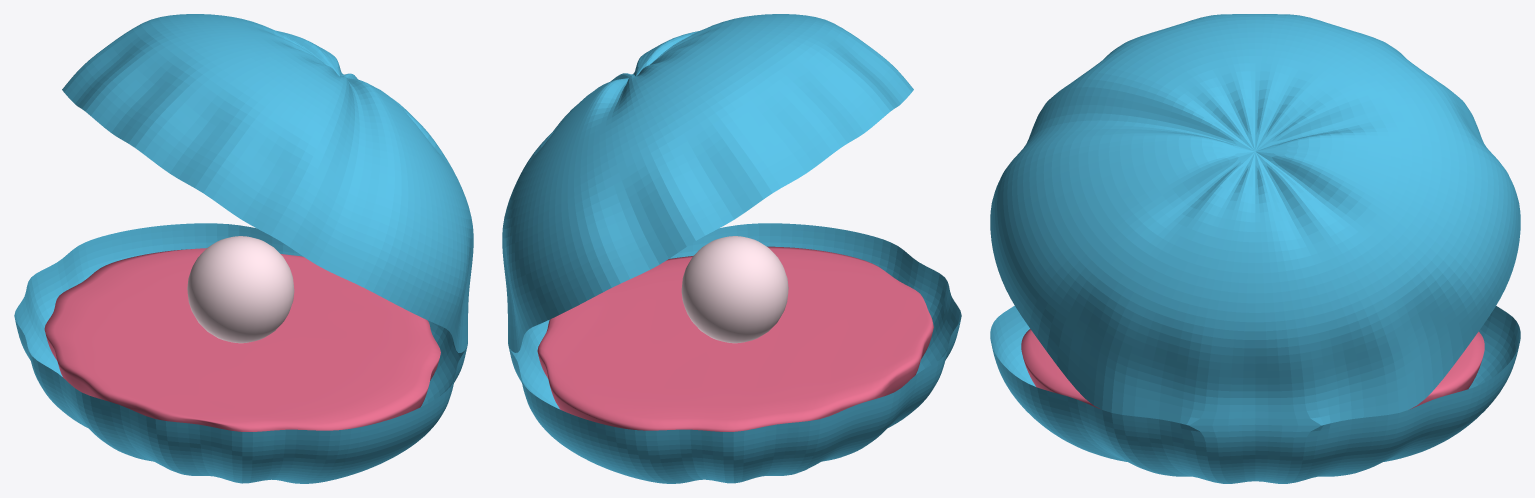
Rendered from oyster2.glb.
The picture shows the model from 3 angles, left to right: view 1: azimuth 30°, elevation 25°; view 2: azimuth 150°, elevation 25°; view 3: azimuth 270°, elevation 25°; orthographic projection.
Visible parts, largest first — view 1: Sphere, Sphere.002, Sphere.001, Sphere.003; view 2: Sphere, Sphere.002, Sphere.001, Sphere.003; view 3: Sphere, Sphere.001, Sphere.002.
Part boxes in pixels (x1,y1,x2,y2): Sphere: [62, 14, 473, 352]; Sphere.002: [44, 248, 440, 431]; Sphere.001: [14, 223, 467, 483]; Sphere.003: [187, 236, 294, 343]; Sphere: [502, 14, 913, 352]; Sphere.002: [537, 246, 933, 431]; Sphere.001: [508, 223, 961, 483]; Sphere.003: [681, 236, 788, 343]; Sphere: [990, 14, 1520, 425]; Sphere.001: [990, 305, 1520, 483]; Sphere.002: [1021, 329, 1484, 409].
Size of the model in its own units: 1.37 by 1.4 by 1.63.
